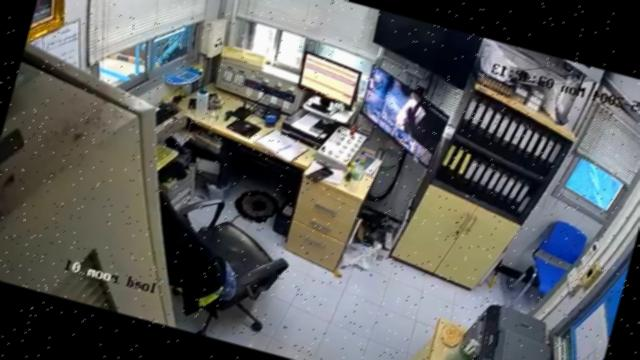Phone: (305, 167, 335, 182)
